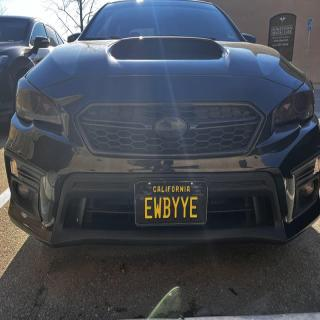license: (135, 180, 208, 227)
